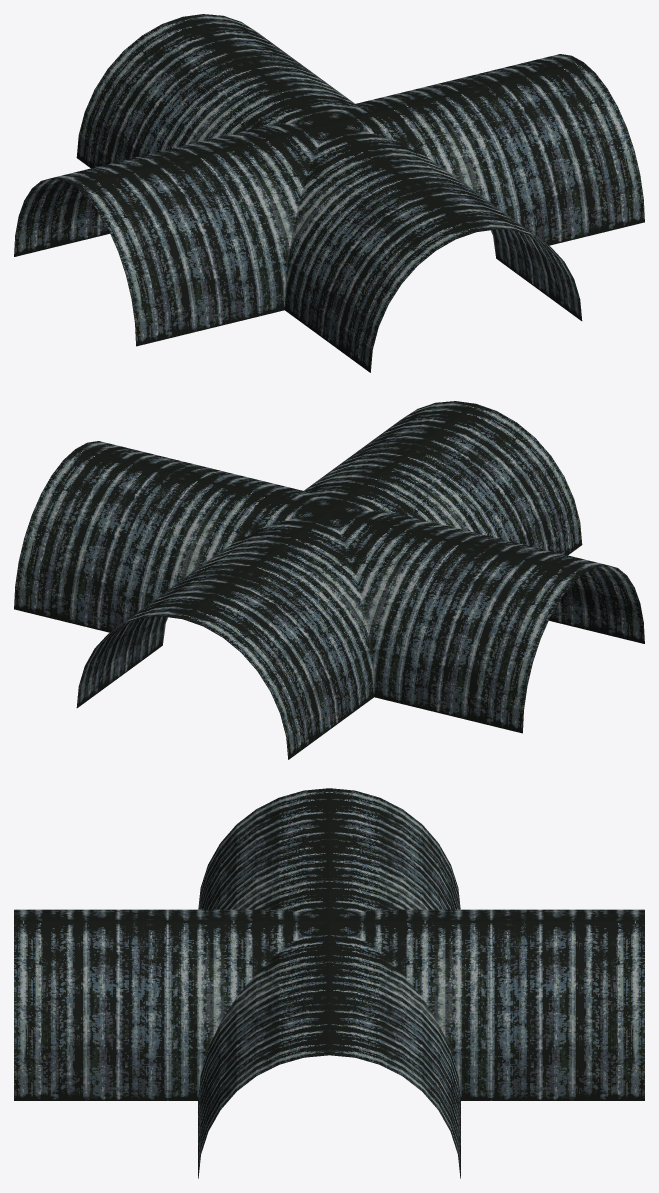
The model's file is SM_EU_MetalTunnel_Cross_1.fbx.
3 views of the same model, one above another, from view 1: azimuth 30°, elevation 25°; view 2: azimuth 150°, elevation 25°; view 3: azimuth 270°, elevation 25° (orthographic). The views are drawn at different scales.
Visible parts, largest first — view 1: SM_EU_MetalTunnel_Cross_1; view 2: SM_EU_MetalTunnel_Cross_1; view 3: SM_EU_MetalTunnel_Cross_1.
Part boxes in pixels (left/top/right/bottom): SM_EU_MetalTunnel_Cross_1: left=14, top=14, right=644, bottom=372; SM_EU_MetalTunnel_Cross_1: left=14, top=401, right=644, bottom=759; SM_EU_MetalTunnel_Cross_1: left=14, top=788, right=644, bottom=1178.
Size of the model in its own units: 12 by 12 by 2.6.
